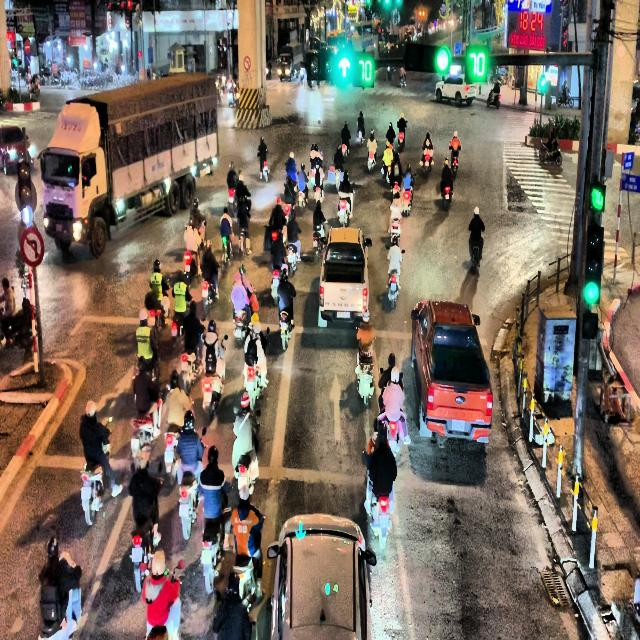lisence_plate: (451, 418, 466, 432), (336, 310, 350, 319)
